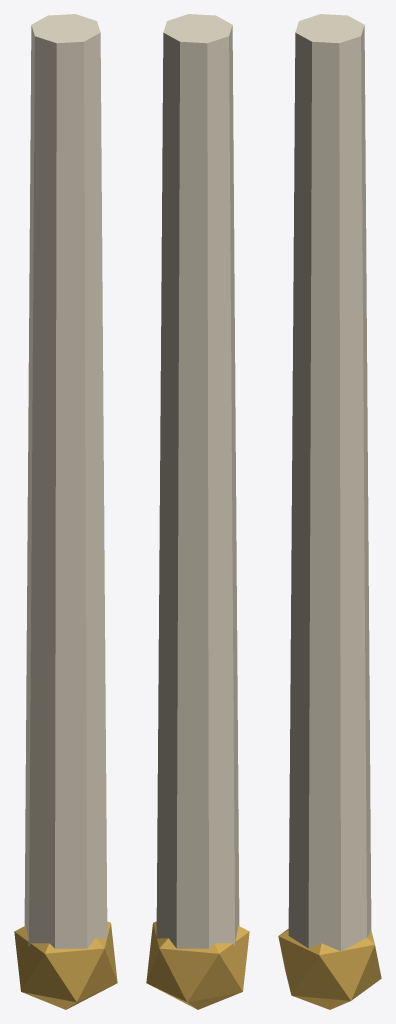
File: wk_skeleton_upper_arm_v01.glb
The picture shows the model from 3 angles, left to right: view 1: azimuth 30°, elevation 25°; view 2: azimuth 150°, elevation 25°; view 3: azimuth 330°, elevation 25°; orthographic projection.
Visible parts, largest first — view 1: GEO_Skeleton_upper_arm, GEO_Skeleton_upper_arm_Joint; view 2: GEO_Skeleton_upper_arm, GEO_Skeleton_upper_arm_Joint; view 3: GEO_Skeleton_upper_arm, GEO_Skeleton_upper_arm_Joint.
Part boxes in pixels (x1,y1,x2,y2): GEO_Skeleton_upper_arm: (24, 14, 107, 948); GEO_Skeleton_upper_arm_Joint: (14, 921, 117, 1009); GEO_Skeleton_upper_arm: (156, 14, 239, 948); GEO_Skeleton_upper_arm_Joint: (146, 921, 249, 1009); GEO_Skeleton_upper_arm: (288, 14, 371, 952); GEO_Skeleton_upper_arm_Joint: (278, 929, 381, 1009).
Bounding box in the file's own units: 0.1014 × 1.06 × 0.0965.
